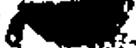Basket: (4, 1, 136, 48)
